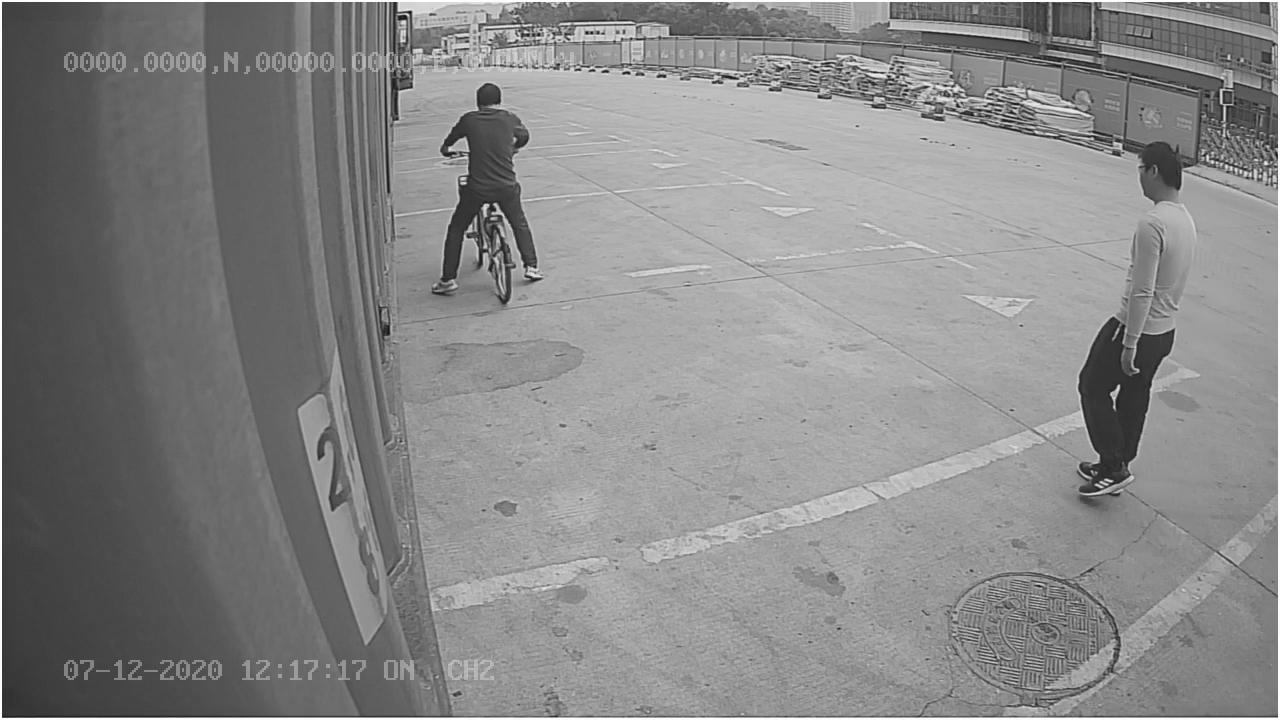person: (1068, 136, 1197, 502)
